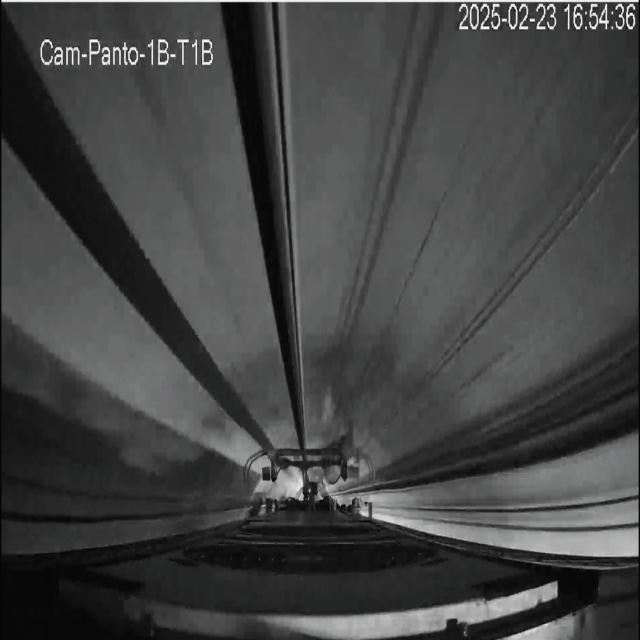Camera Stamp: (35, 30, 220, 71)
Date Stamp: (459, 3, 636, 33)
No - Spark: (245, 427, 376, 518)
